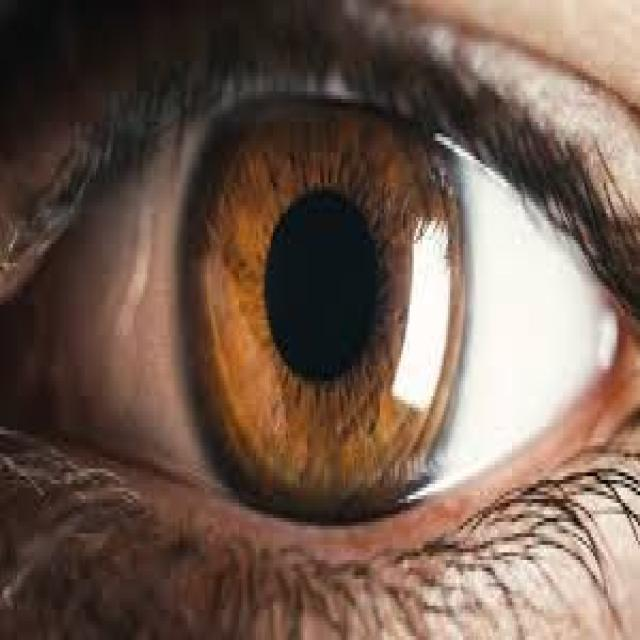Normal: (0, 0, 638, 636)
